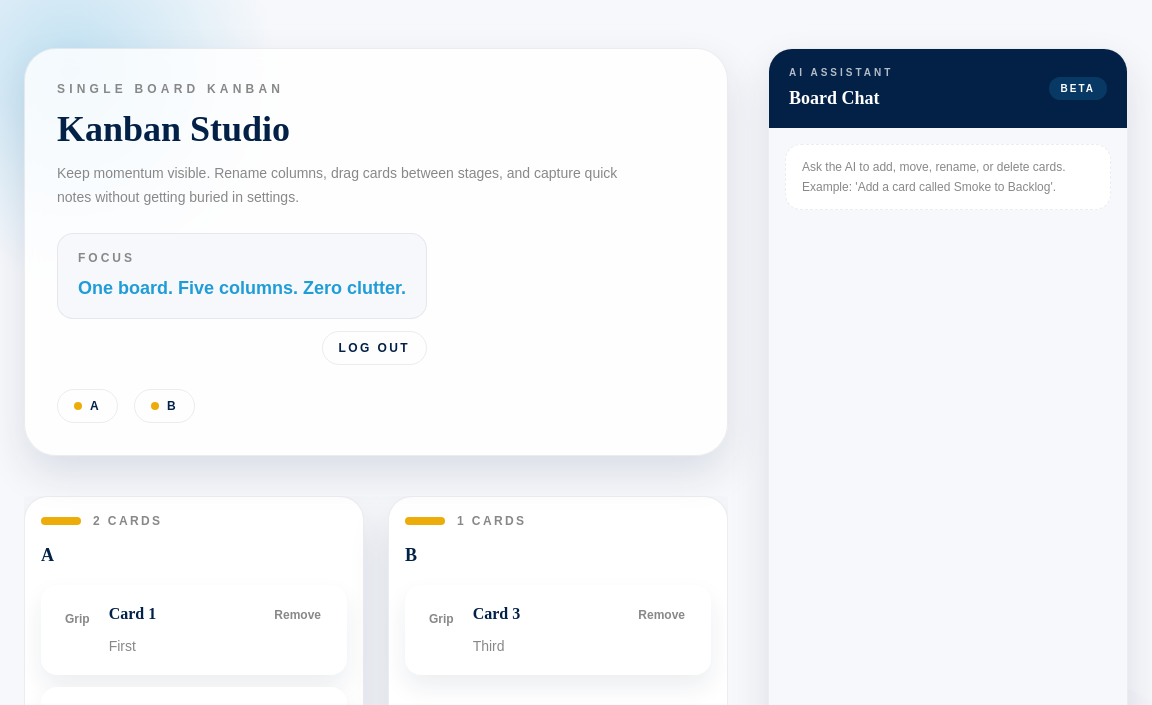
it: KanbanBoard › saves pending board edits before sending an AI request
Replace the text in the 1st field named "Column title" with "Ready" at (194, 555), box [41, 541, 347, 569]
(page scrolled)
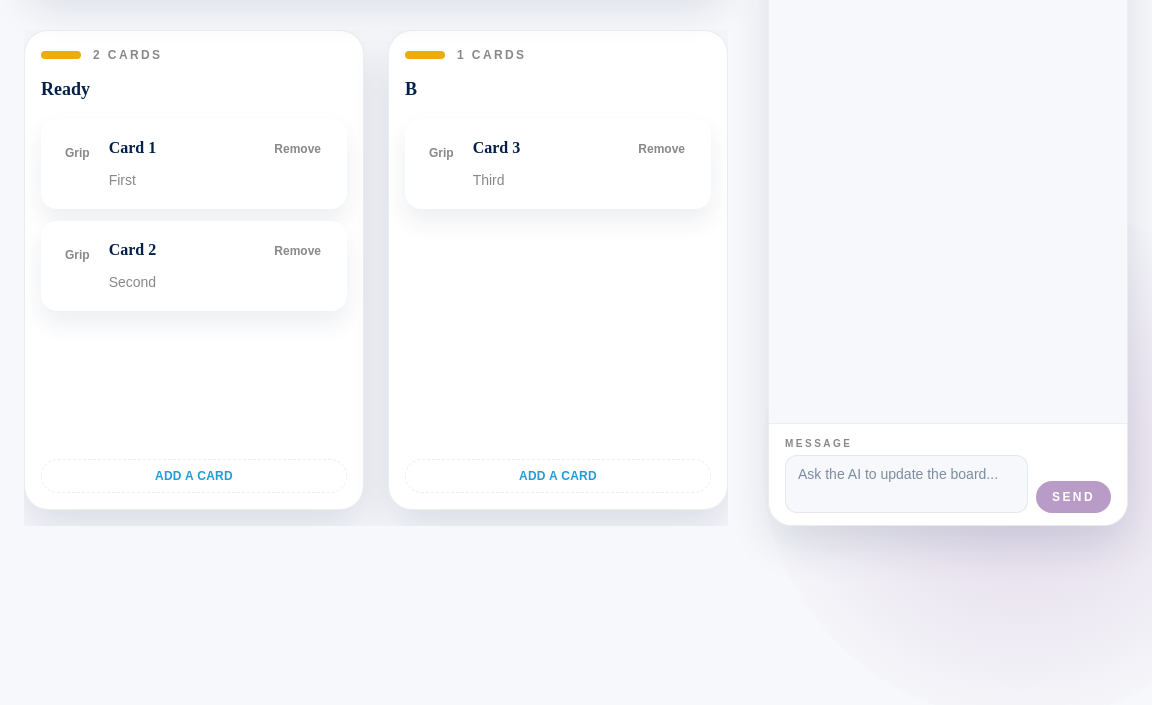
Type "Add a card after saving" into the text box with test id "chat-input" at (906, 484), box [785, 455, 1028, 513]
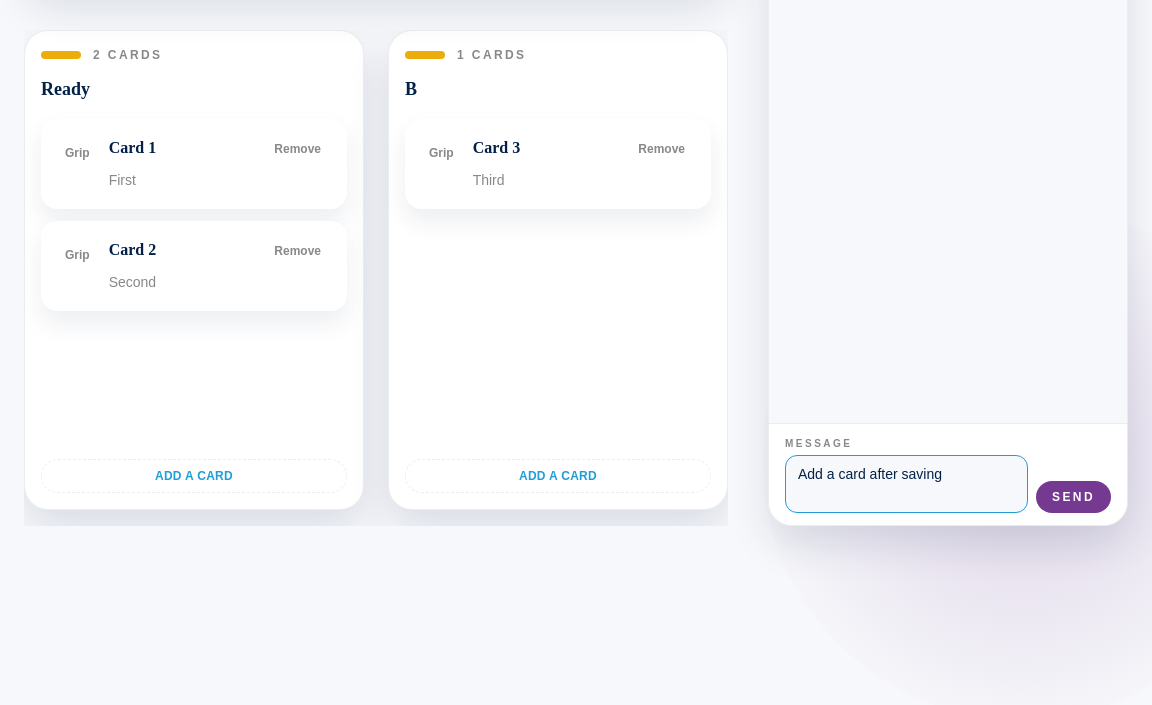
Click the button with test id "chat-send" at (1074, 497), box [1036, 481, 1111, 513]
(page scrolled)
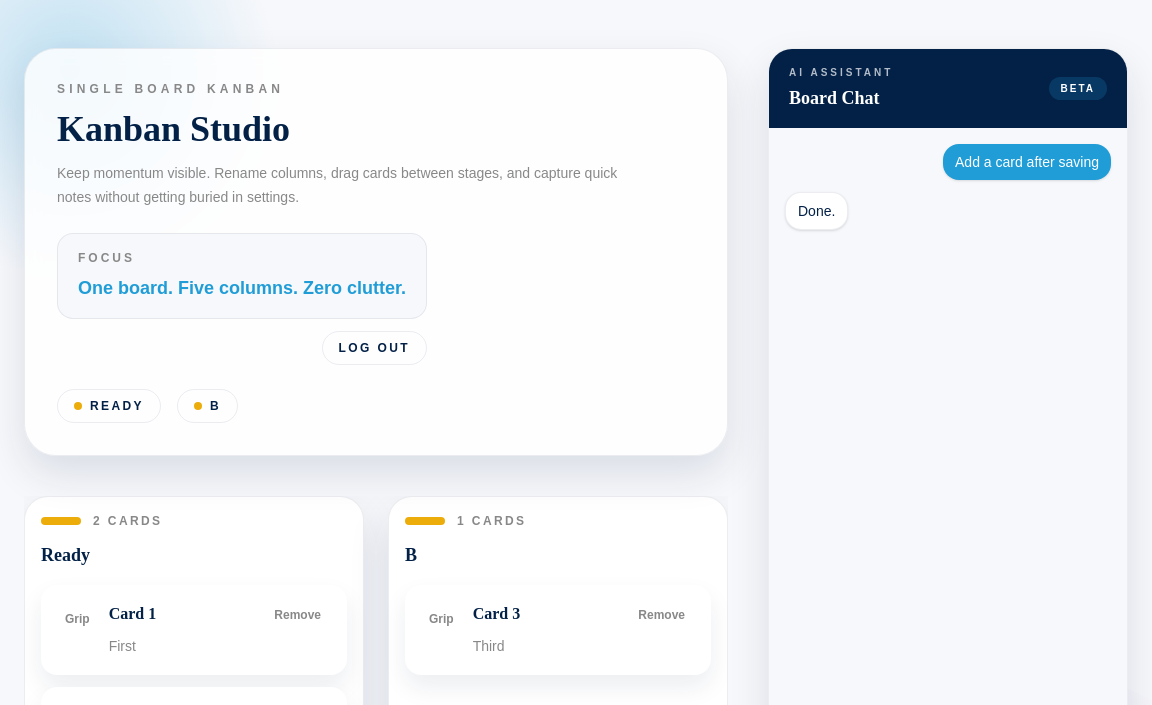
Now the text with test id "chat-message-assistant" reads "Done.", box [798, 203, 835, 219]
